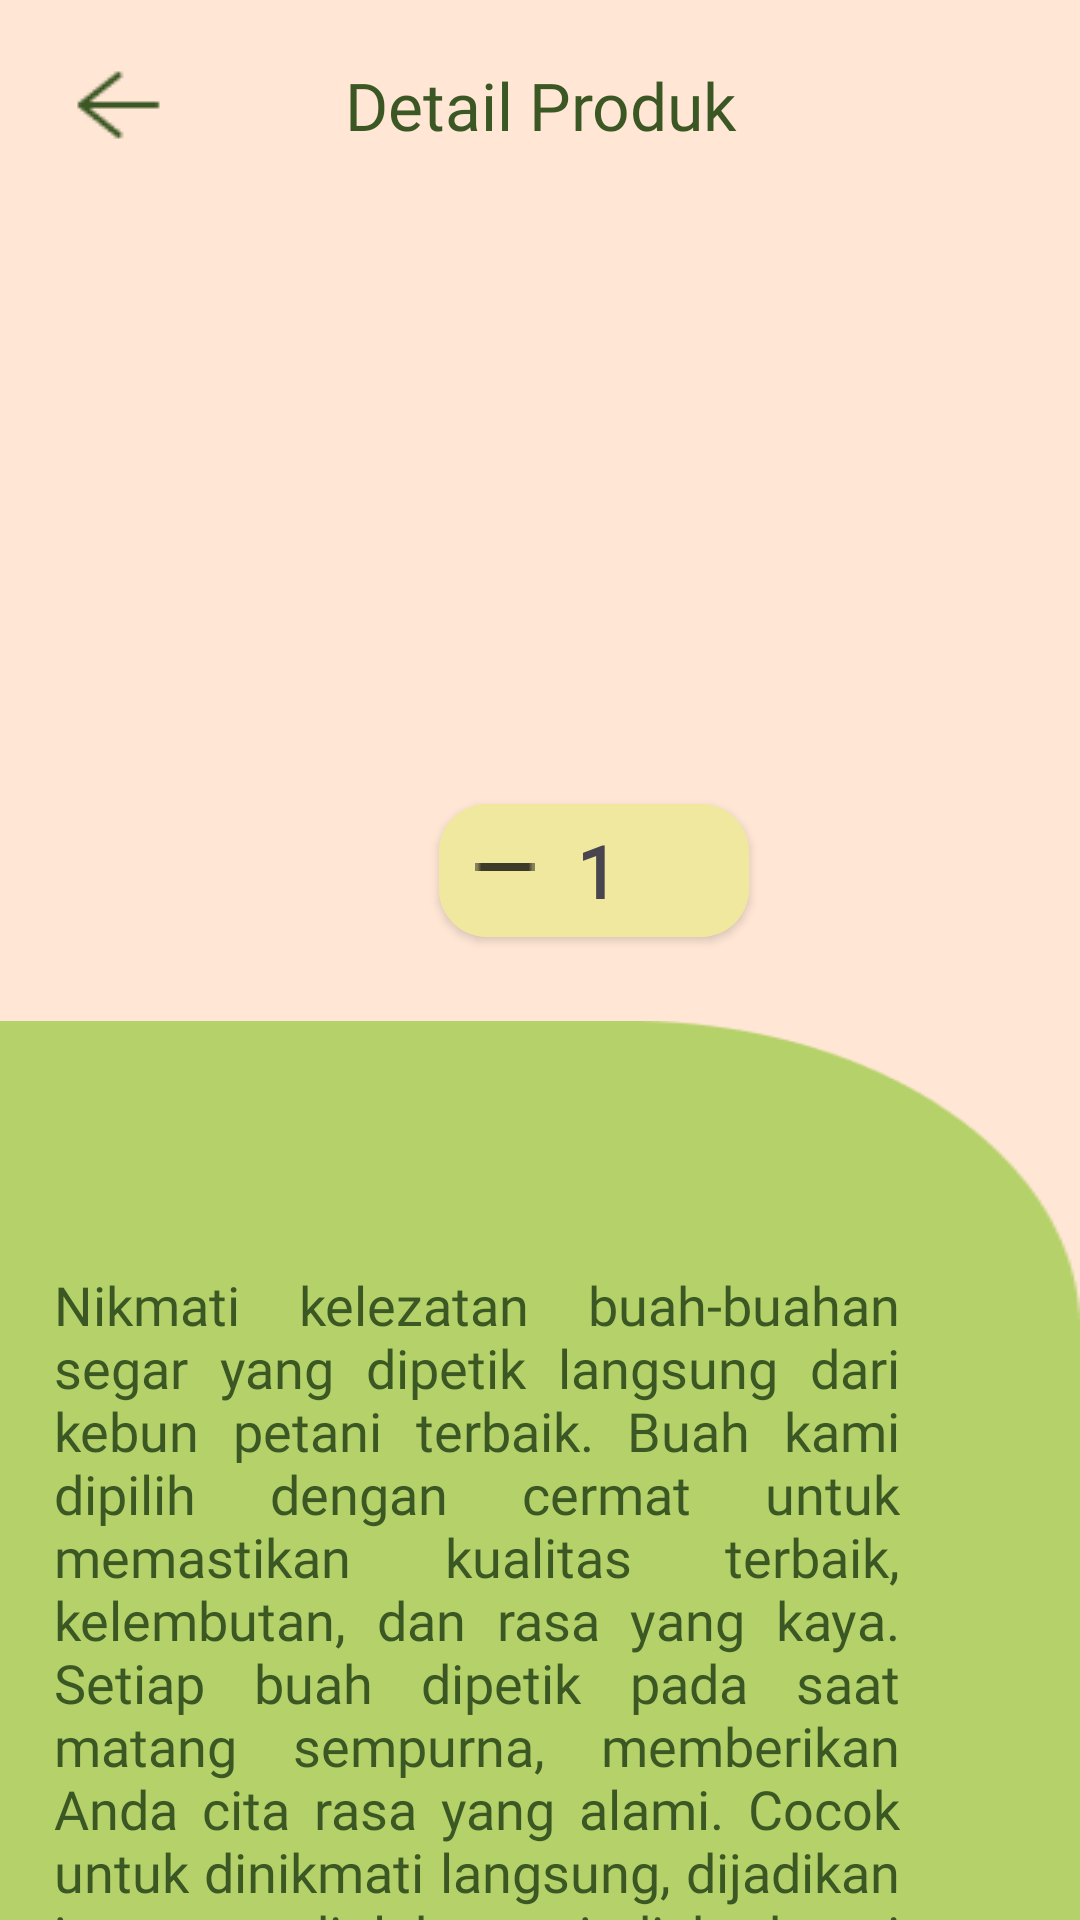

Icon bounding boxes for this 1080 × 1920 phone screenshot, format bbox(x1, y1, x2, y2):
arrow left: bbox(77, 71, 160, 139)
